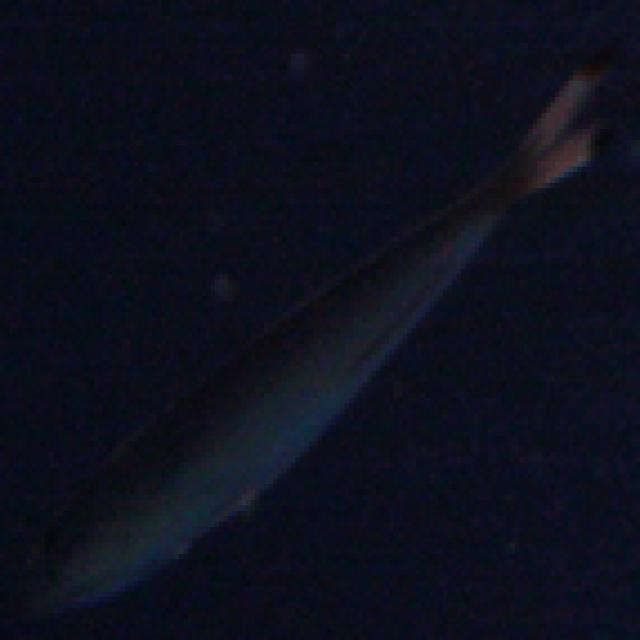fish: (4, 5, 640, 640)
